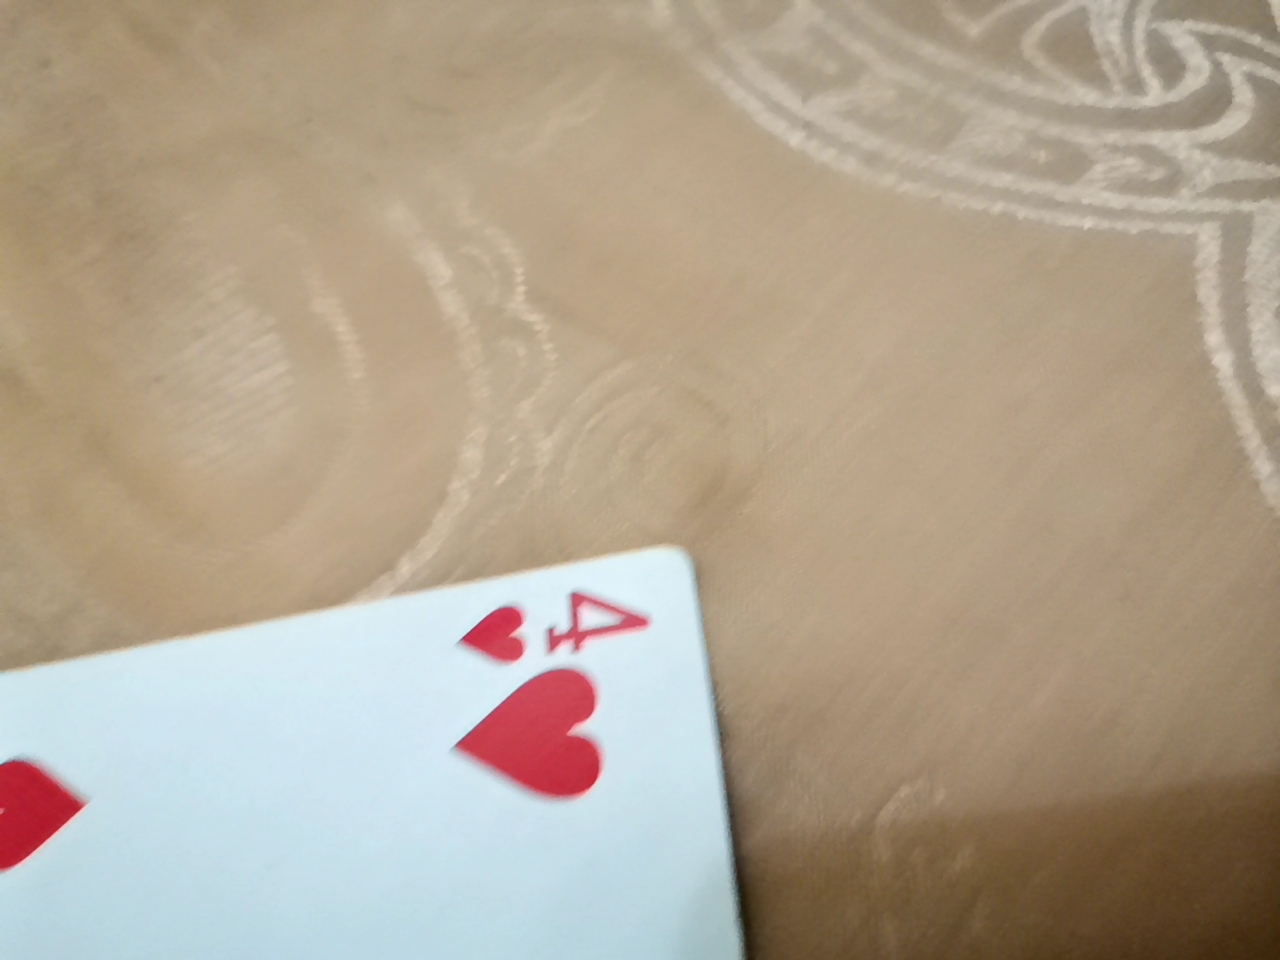hx 4: (0, 585, 725, 957)
